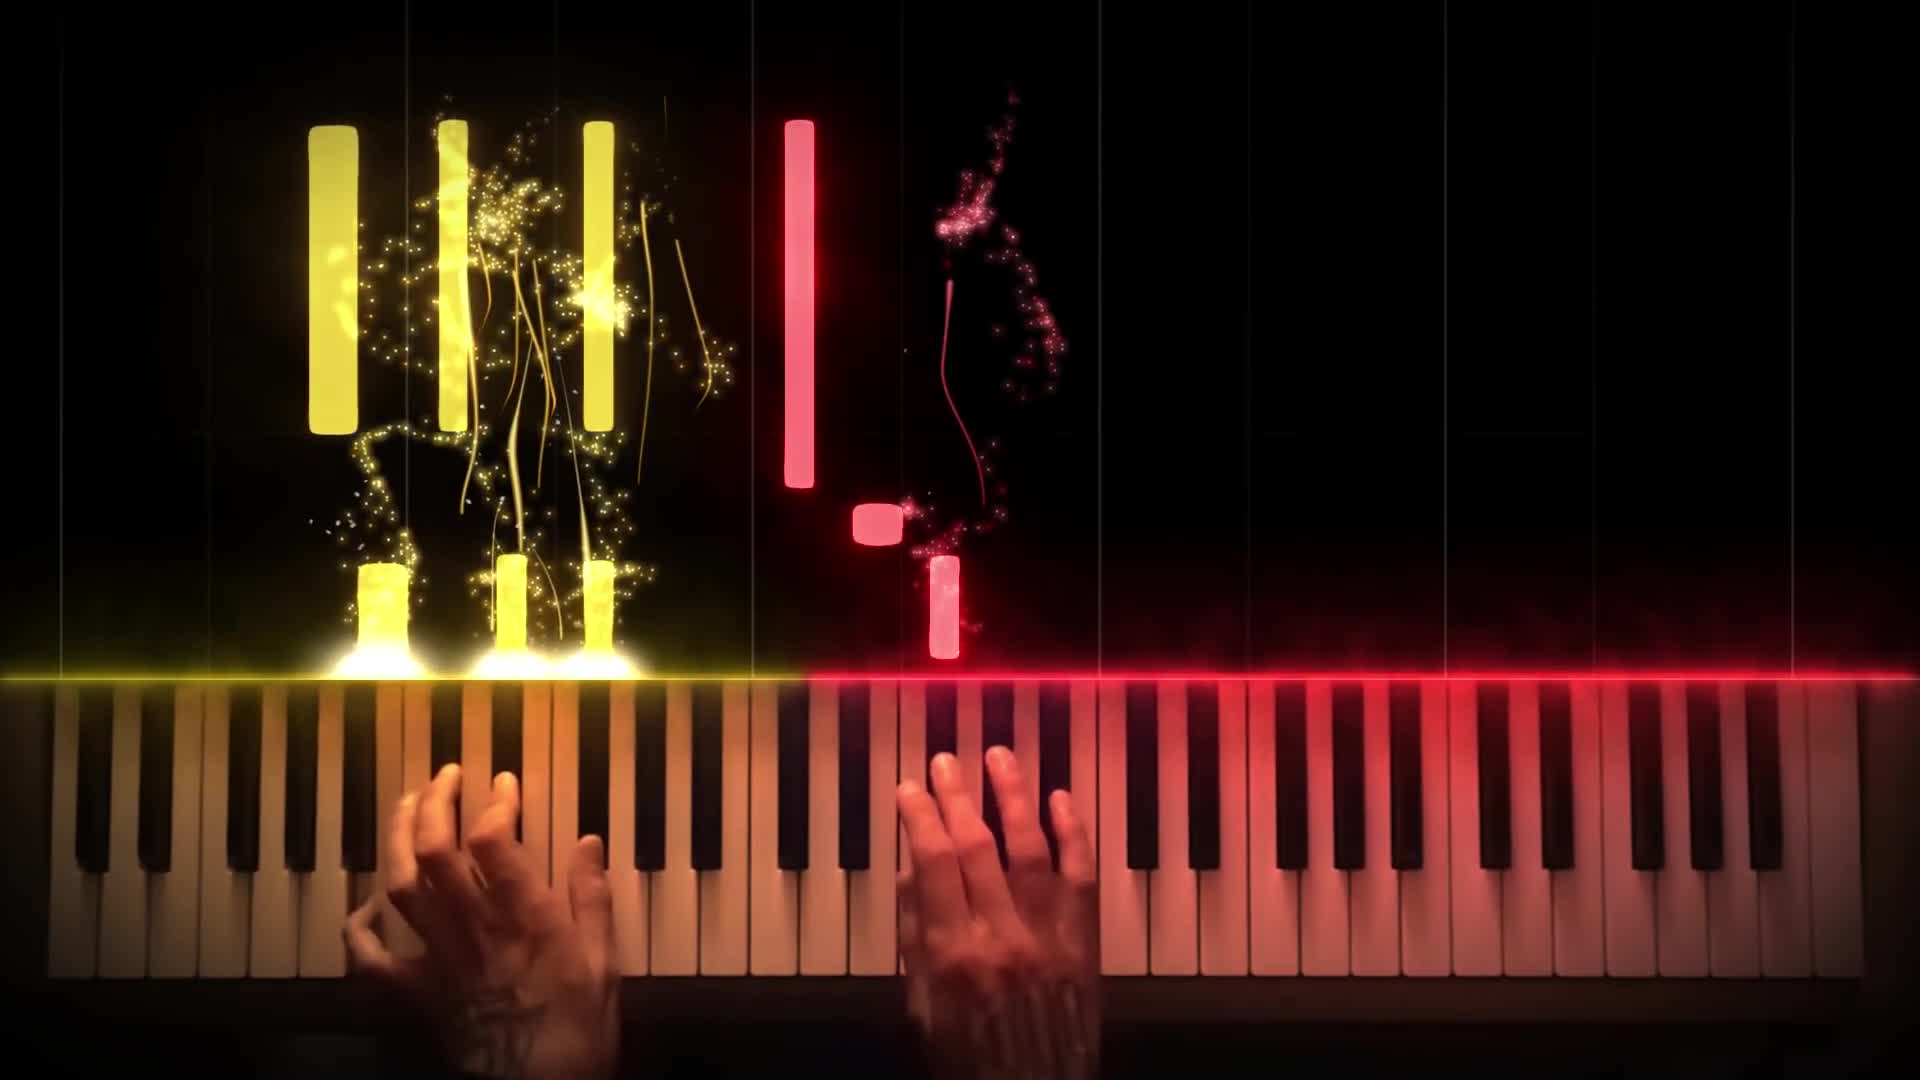left: (338, 760, 622, 1080)
right: (890, 740, 1100, 1080)
